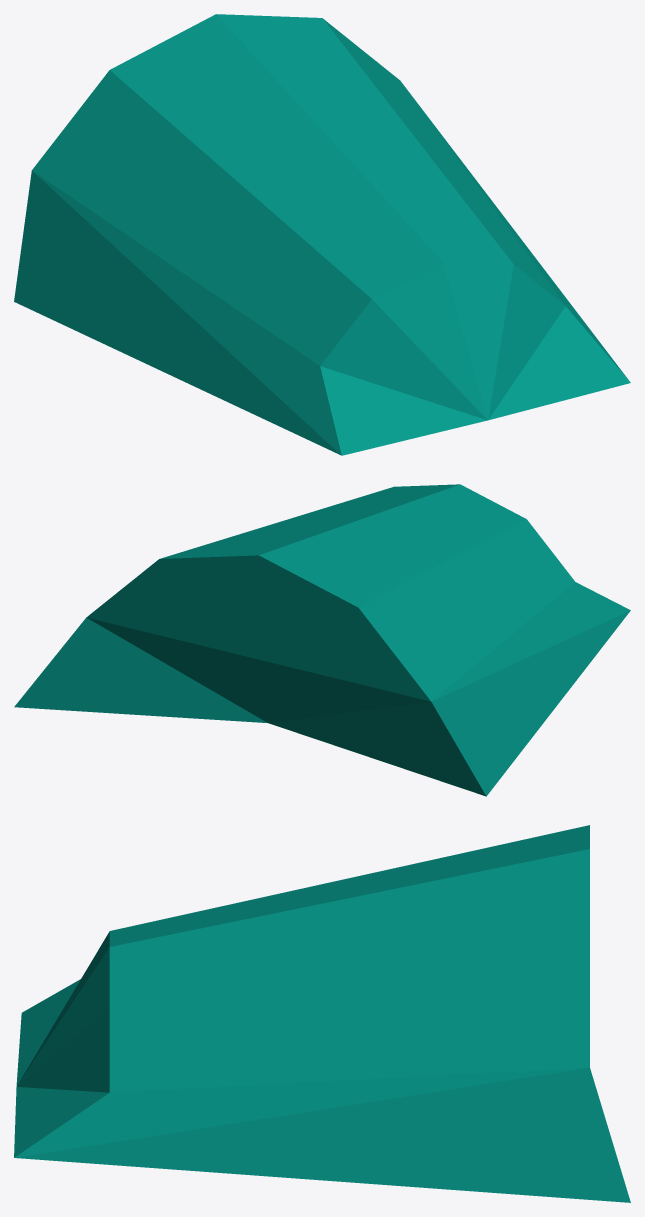
Rendered from n5_n5_group935806907_lev5.glb.
3 views of the same model, one above another, from view 1: azimuth 30°, elevation 25°; view 2: azimuth 150°, elevation 25°; view 3: azimuth 270°, elevation 25° (orthographic). The views are drawn at different scales.
Visible parts, largest first — view 1: n5_n5_group935806907_lev5; view 2: n5_n5_group935806907_lev5; view 3: n5_n5_group935806907_lev5.
Boxes of the visible parts, x1=… form: n5_n5_group935806907_lev5: x1=14, y1=14, x2=630, y2=455; n5_n5_group935806907_lev5: x1=14, y1=484, x2=630, y2=796; n5_n5_group935806907_lev5: x1=14, y1=825, x2=630, y2=1202.
Bounding box in the file's own units: 3.77 × 1.69 × 3.99.
